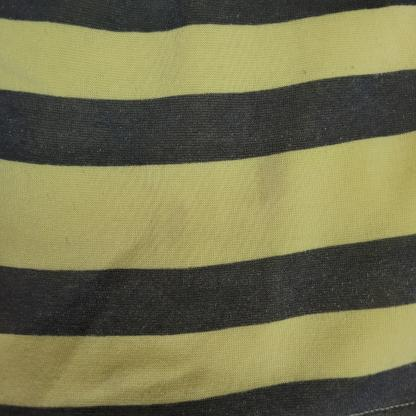spot: (242, 137, 292, 202)
